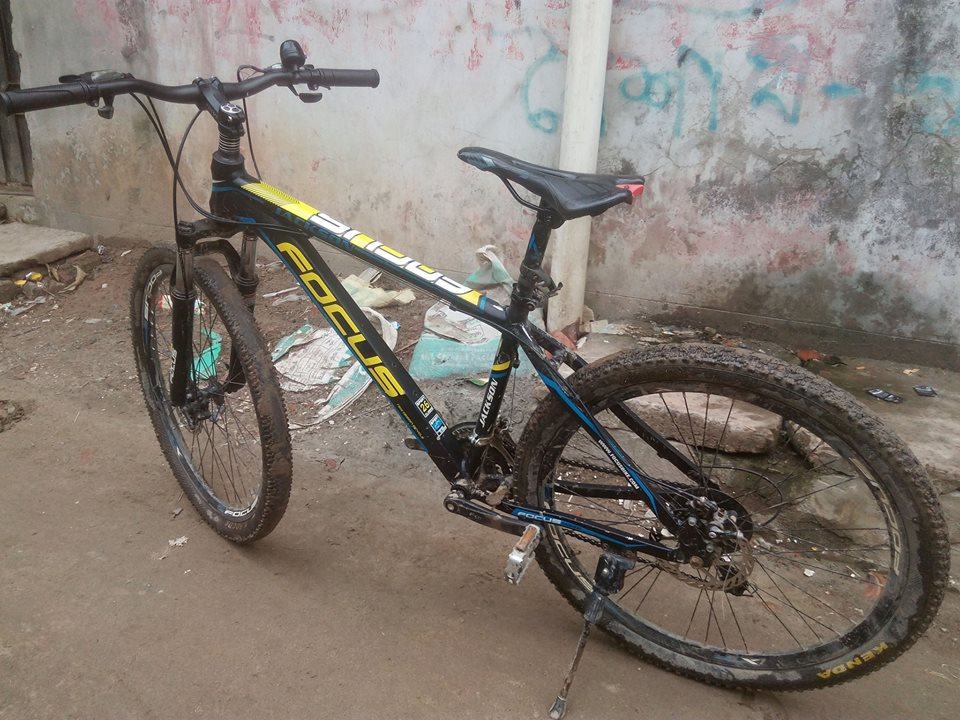bicycle: (13, 46, 952, 684)
